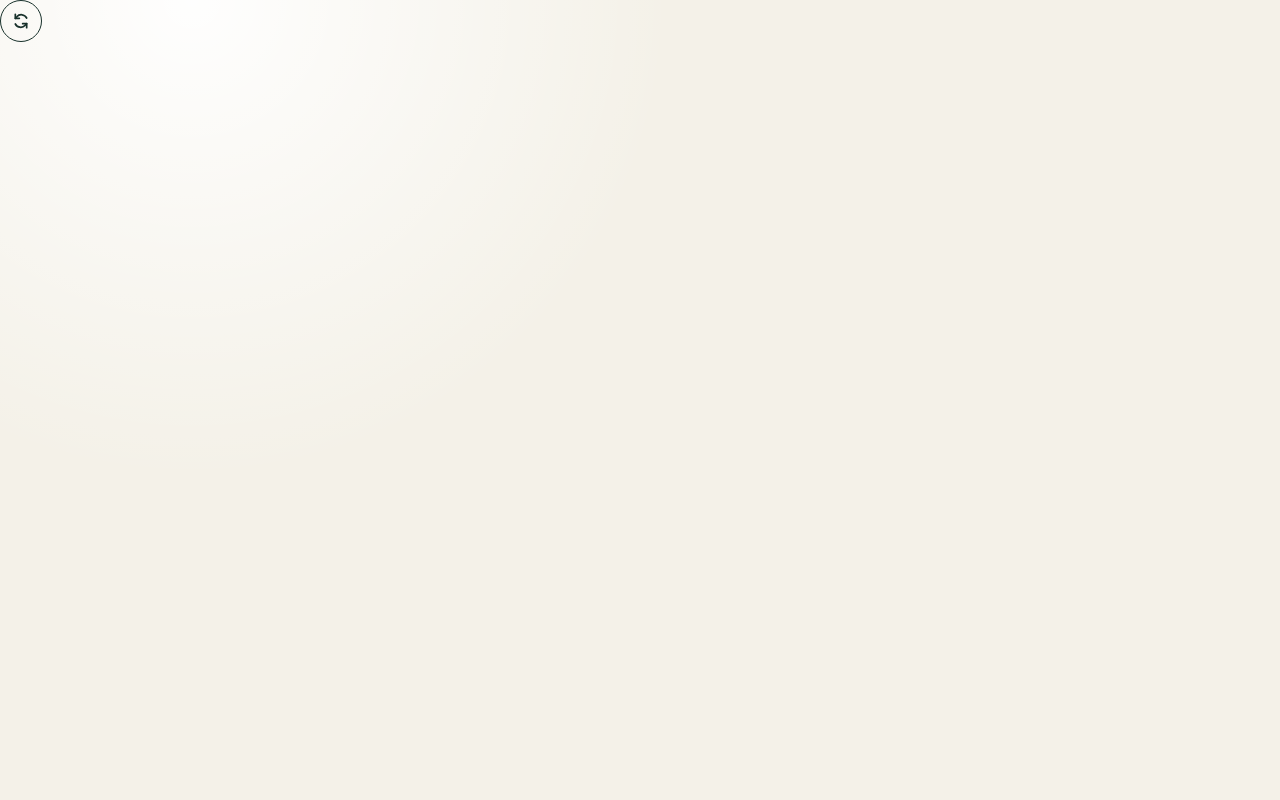
Test case: SyncPanel: entry and local validation › keeps guest authentication available without rendering the entire backup section
Later steps or results of the test are not shown.
What coordinates should you click on to do the following:
click the button named "登录与数据同步"
I would click on:
 (21, 21)
Its box is [0, 0, 42, 42].
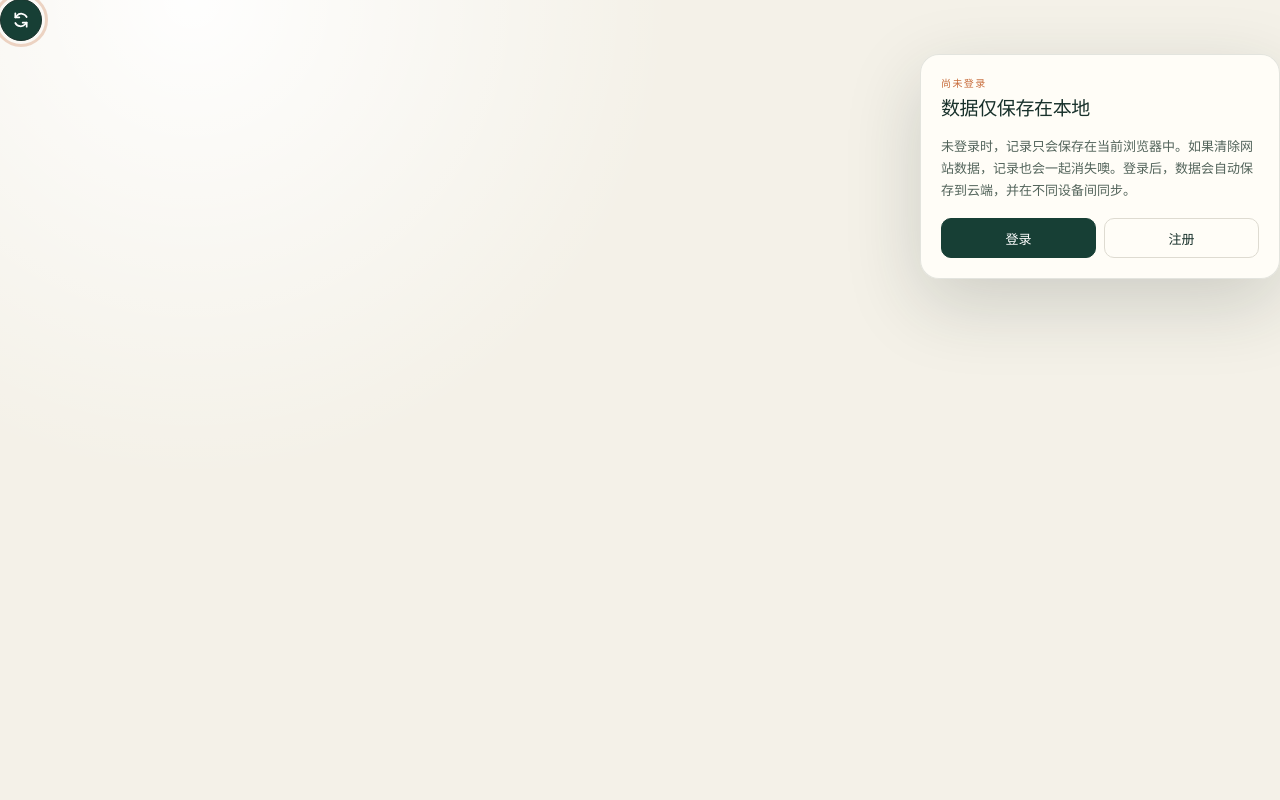
Expected: the text "数据仅保存在本地" is shown, [941, 95, 1090, 121]
Expected: the button "登录" is shown
Expected: the button "注册" is shown, [1104, 218, 1259, 258]
What coordinates should you click on to do the following:
click the button "登录"
I would click on:
 (1018, 238)
Its box is [941, 218, 1096, 258].
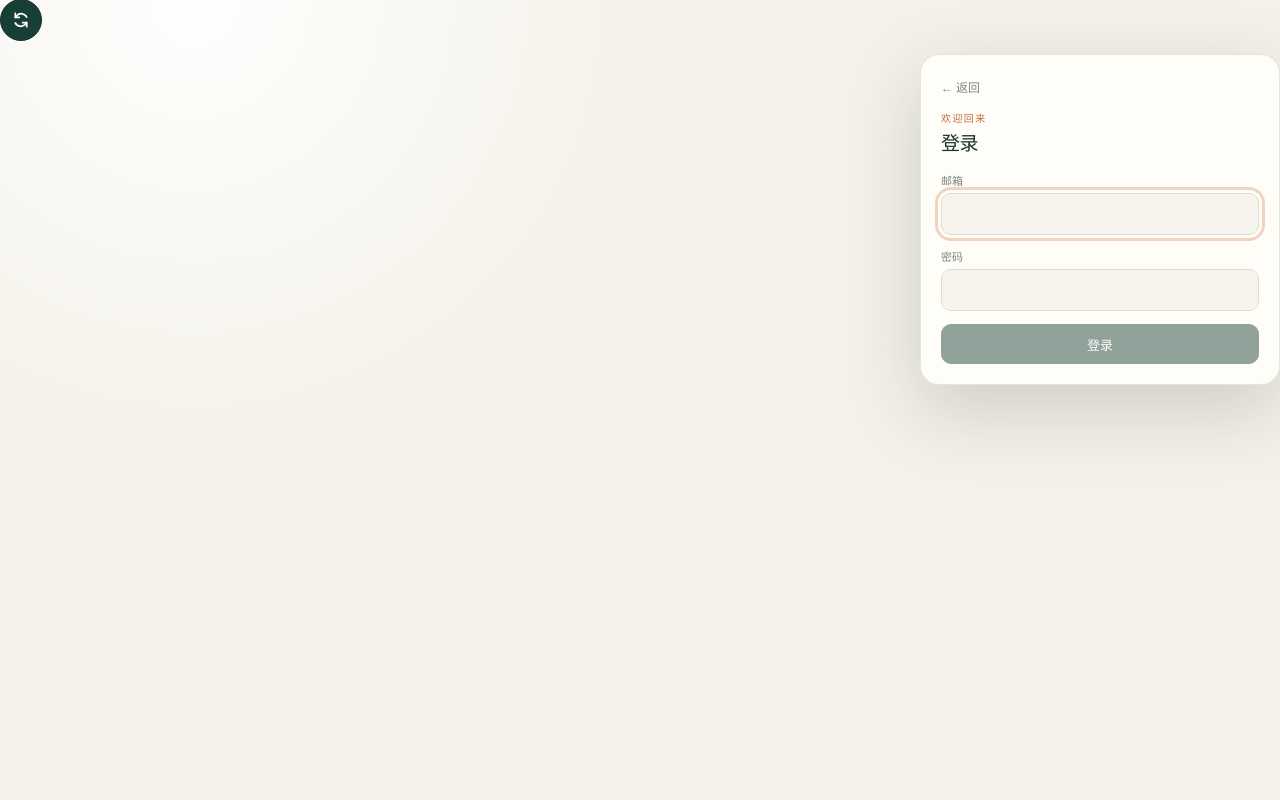
Expected: the field labelled "邮箱" is shown, [941, 193, 1259, 235]
